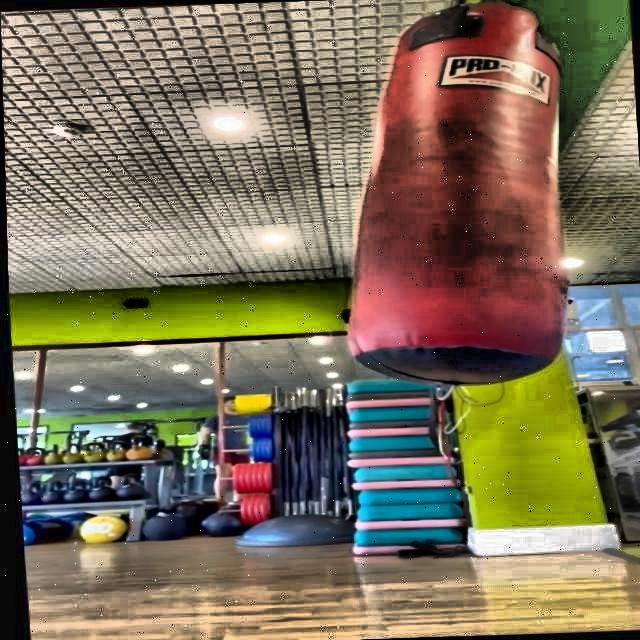boxing-bag: (327, 0, 571, 387)
